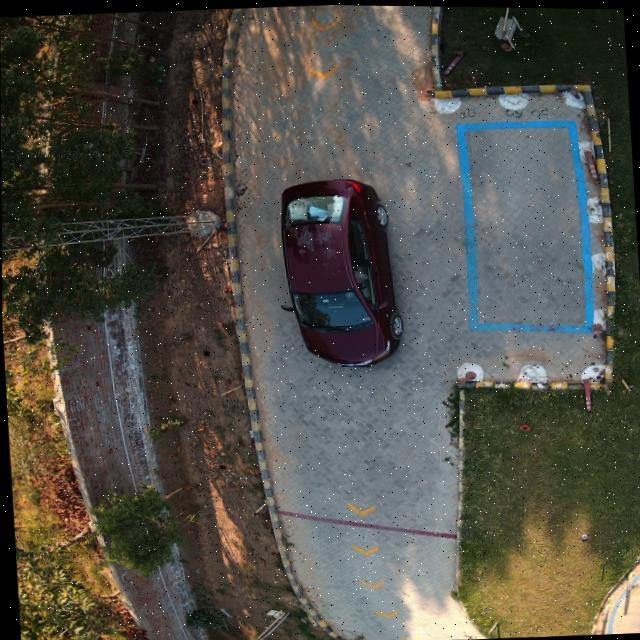car: (282, 175, 401, 366)
